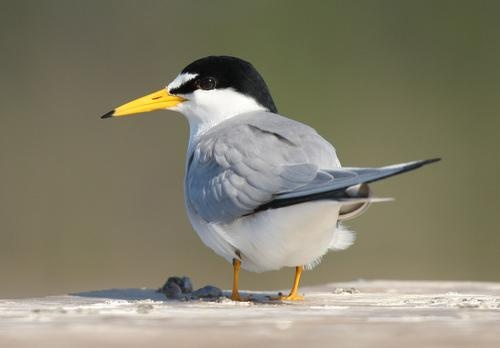bird: (97, 49, 439, 303)
